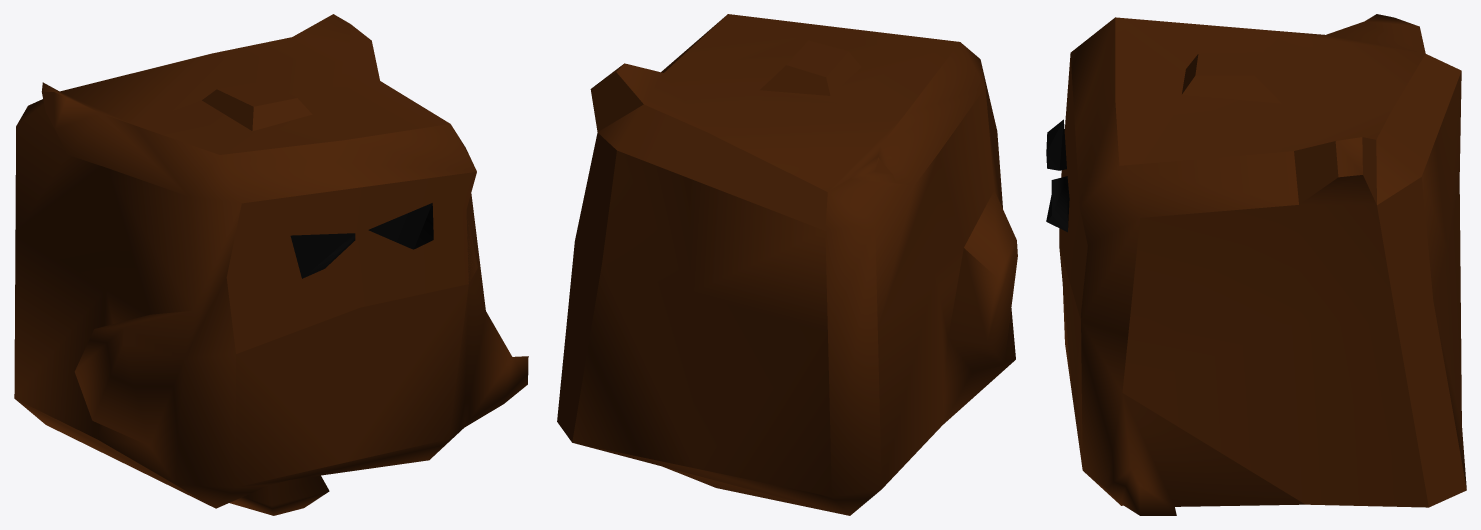
Rendered from EarthBaddie.fbx.
3 views of the same model, side by side, from view 1: azimuth 30°, elevation 25°; view 2: azimuth 150°, elevation 25°; view 3: azimuth 270°, elevation 25° (orthographic). The views are drawn at different scales.
Visible parts, largest first — view 1: polySurface1, polySurface2; view 2: polySurface1; view 3: polySurface1, polySurface2.
Boxes of the visible parts, x1,y1,x2,y2 form: polySurface1: (14,14,528,515); polySurface2: (290,203,433,278); polySurface1: (557,14,1017,515); polySurface1: (1059,14,1466,515); polySurface2: (1046,119,1069,232).
Size of the model in its own units: 126 by 112 by 107.
